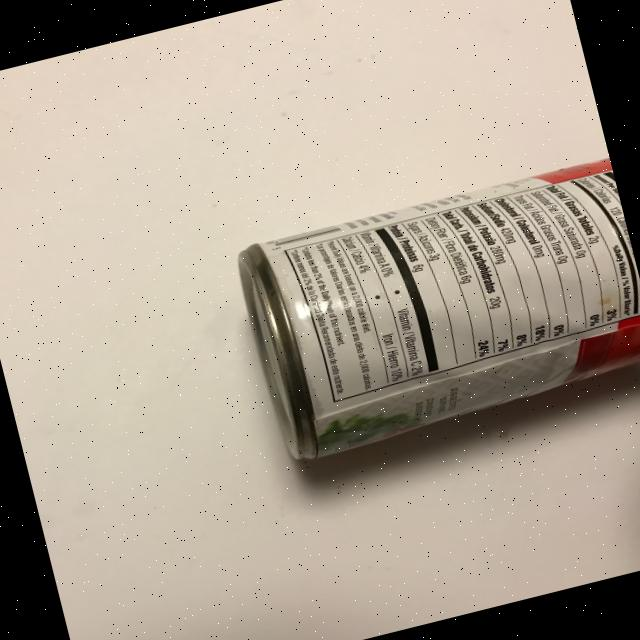metal: (231, 153, 640, 466)
